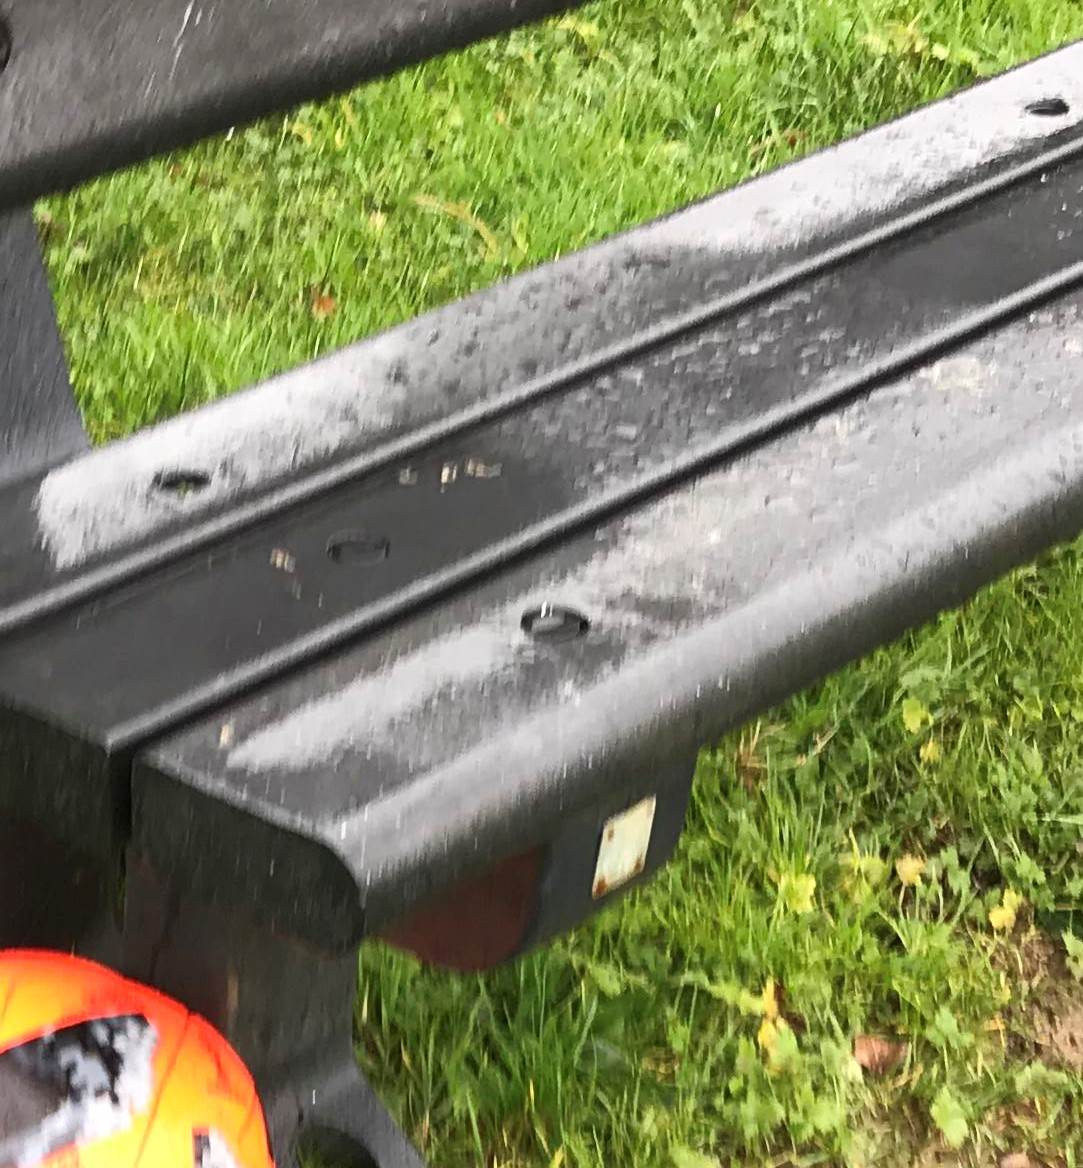football: (4, 950, 253, 1168)
